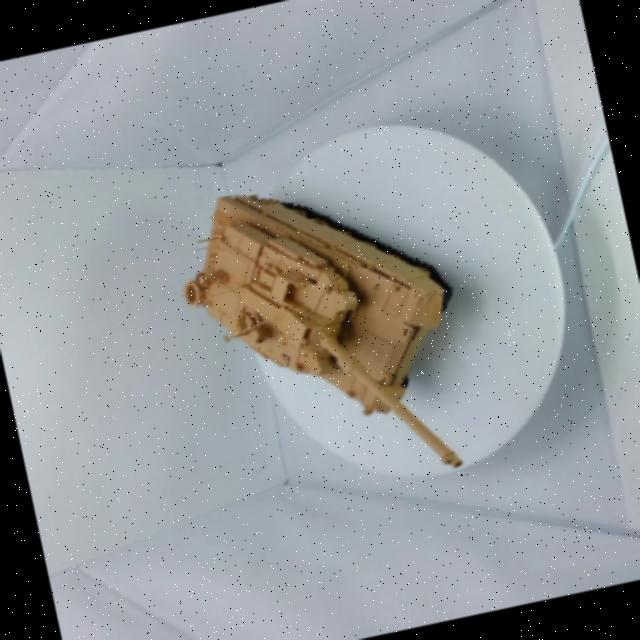korea tank: (139, 126, 519, 550)
